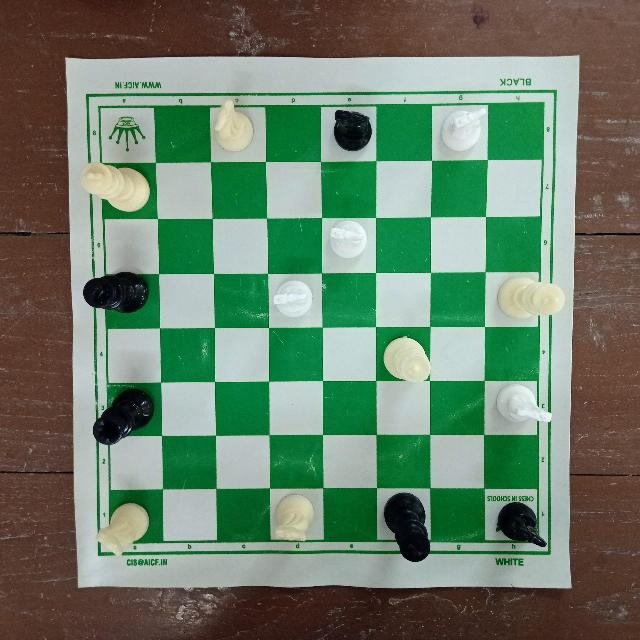black-king: (382, 491, 436, 567), (90, 386, 155, 448), (81, 266, 151, 320)
black-knight: (497, 500, 547, 554), (329, 108, 374, 155)
white-king: (73, 161, 153, 217), (490, 273, 567, 327)
white-knight: (93, 500, 155, 558), (493, 381, 555, 433), (435, 103, 489, 158), (211, 98, 260, 154), (270, 493, 318, 547), (268, 278, 318, 326), (323, 217, 370, 267)
white-queen: (381, 333, 431, 385)
